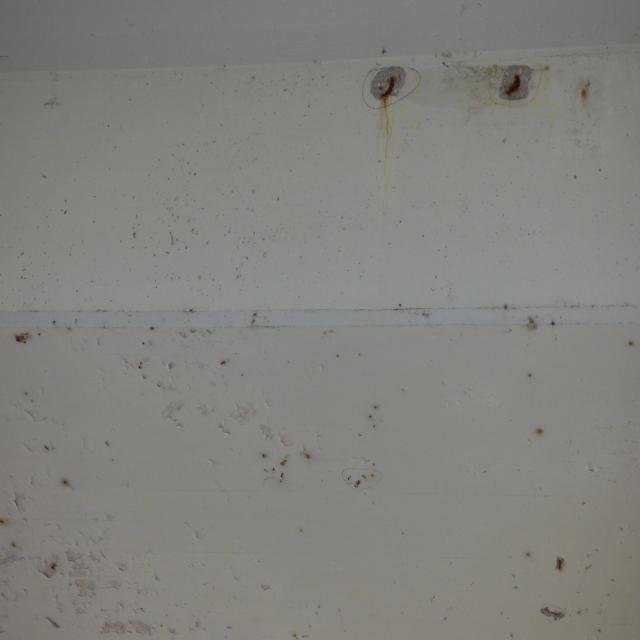corrosion: (504, 302, 640, 456), (0, 437, 119, 594), (251, 398, 389, 496), (520, 549, 612, 640), (498, 61, 602, 120), (12, 317, 62, 409), (372, 69, 406, 168), (127, 317, 171, 383), (214, 354, 234, 370)
